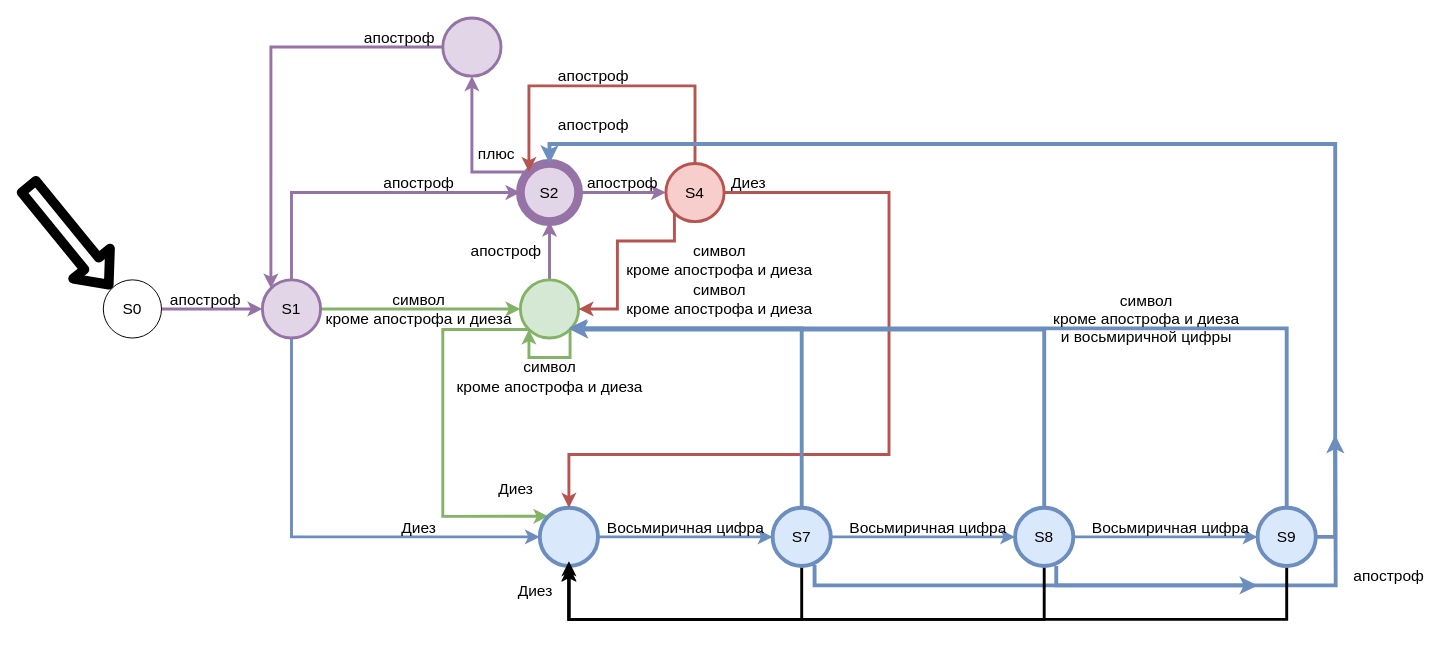
This 1449x645 diagram has some shape labels left out. Here are the shapes that lost their labels. From the top down, the centre of each, then its label:
At (x=471, y=46): "S3".
At (x=549, y=308): "S5".
At (x=568, y=536): "S6".
